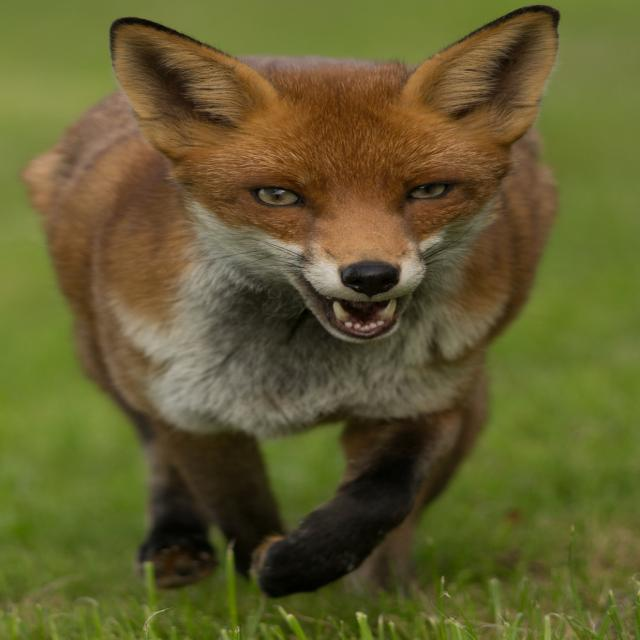fox: (6, 0, 619, 524)
